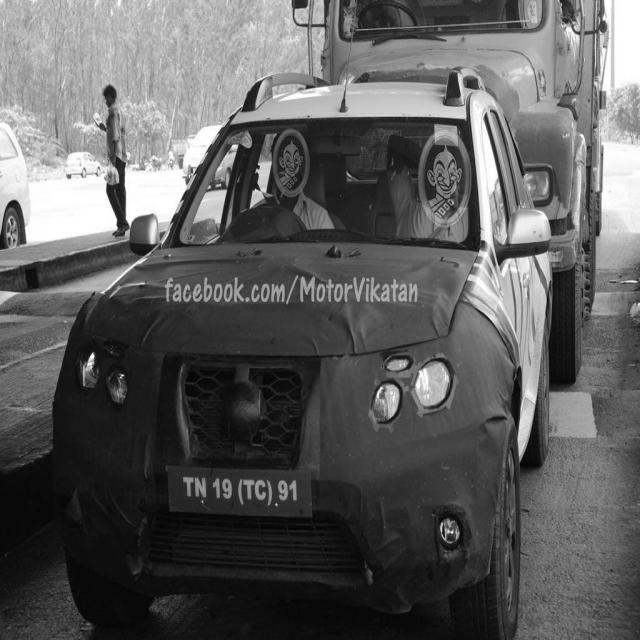car: (49, 63, 550, 640)
license-plate: (166, 466, 316, 517)
truck: (326, 0, 619, 366)
